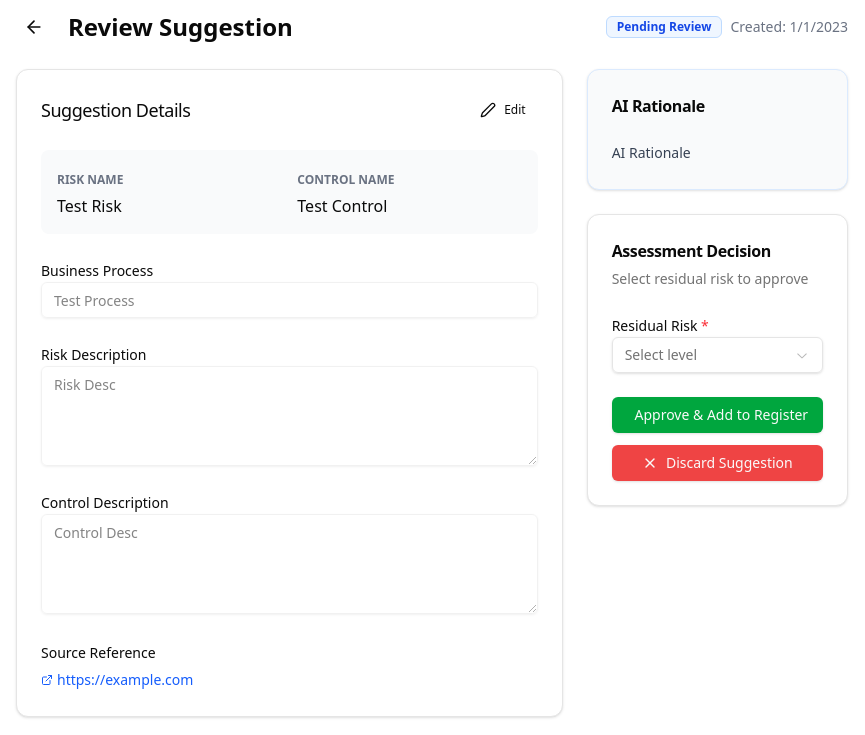
BPOReviewDetailPage › enables editing when edit button is clicked
Expected: the field showing "Test Process" is disabled, [41,282,538,318]
Click the button "Edit" at x=503, y=110, box [468,94,538,126]
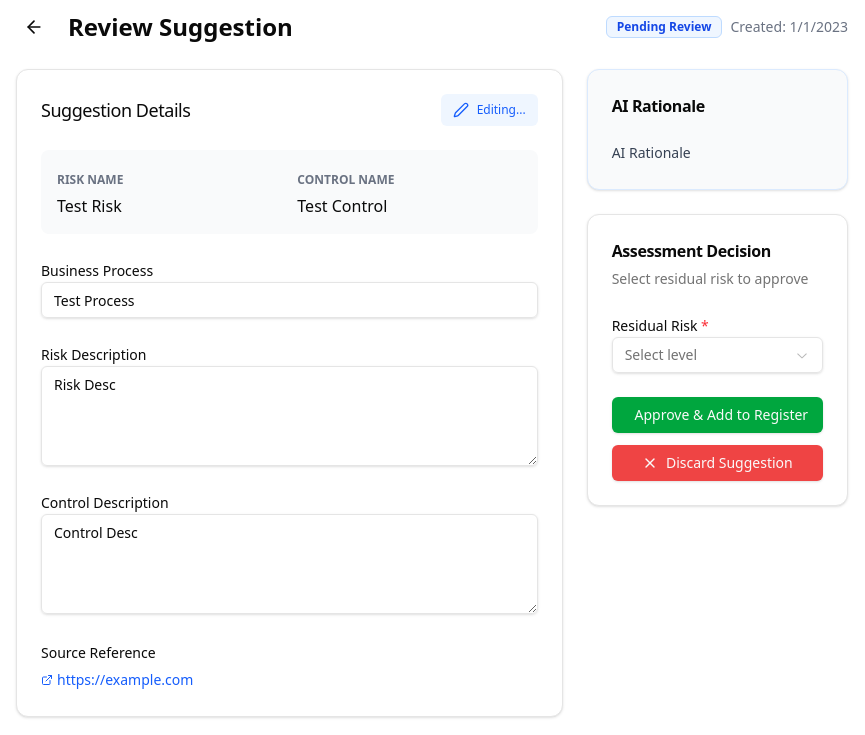
Expected: the field showing "Test Process" is enabled, [41,282,538,318]
